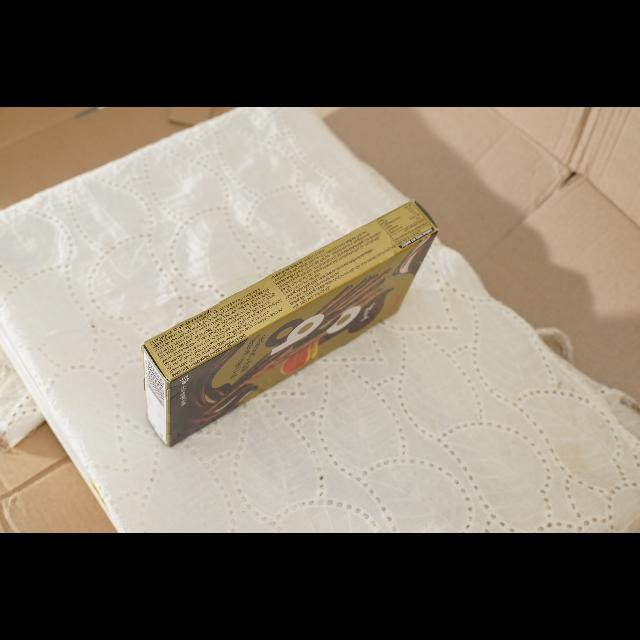banh_toppo_socola: (143, 201, 437, 445)
